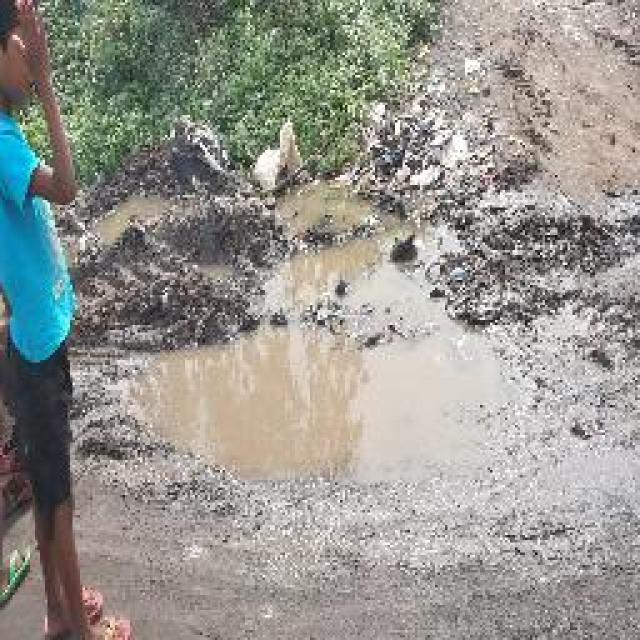stagnation: (134, 341, 526, 491)
